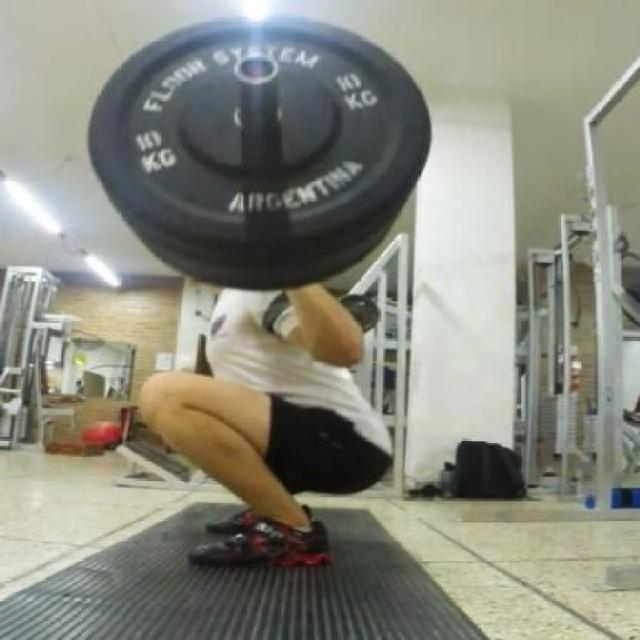barbell: (85, 7, 437, 295)
